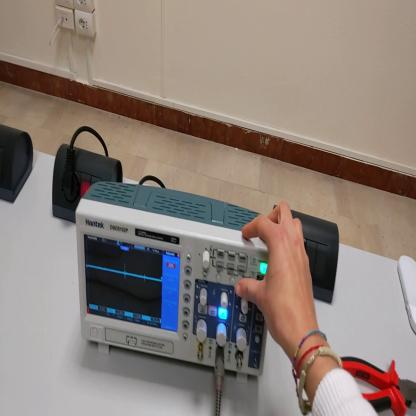hand: (234, 201, 320, 349)
oscilloscope: (75, 181, 269, 380)
pliers: (342, 355, 416, 415)
socket: (51, 147, 124, 222), (2, 123, 36, 206)
